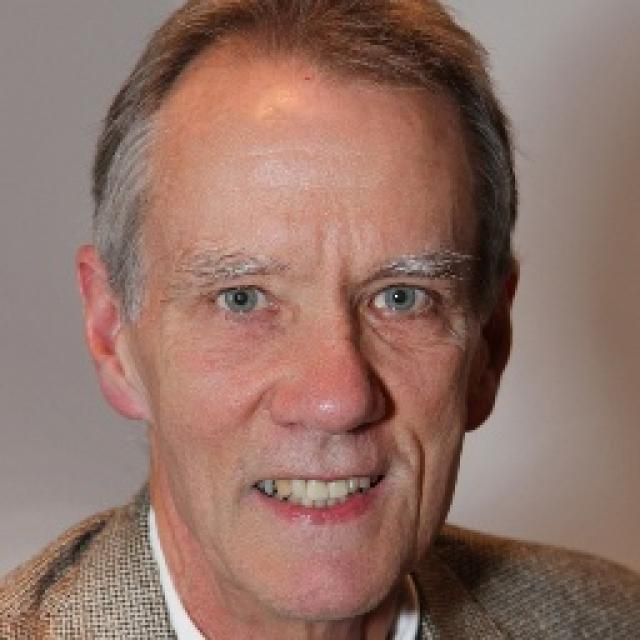earlobe: (74, 243, 150, 424), (462, 254, 522, 433)
